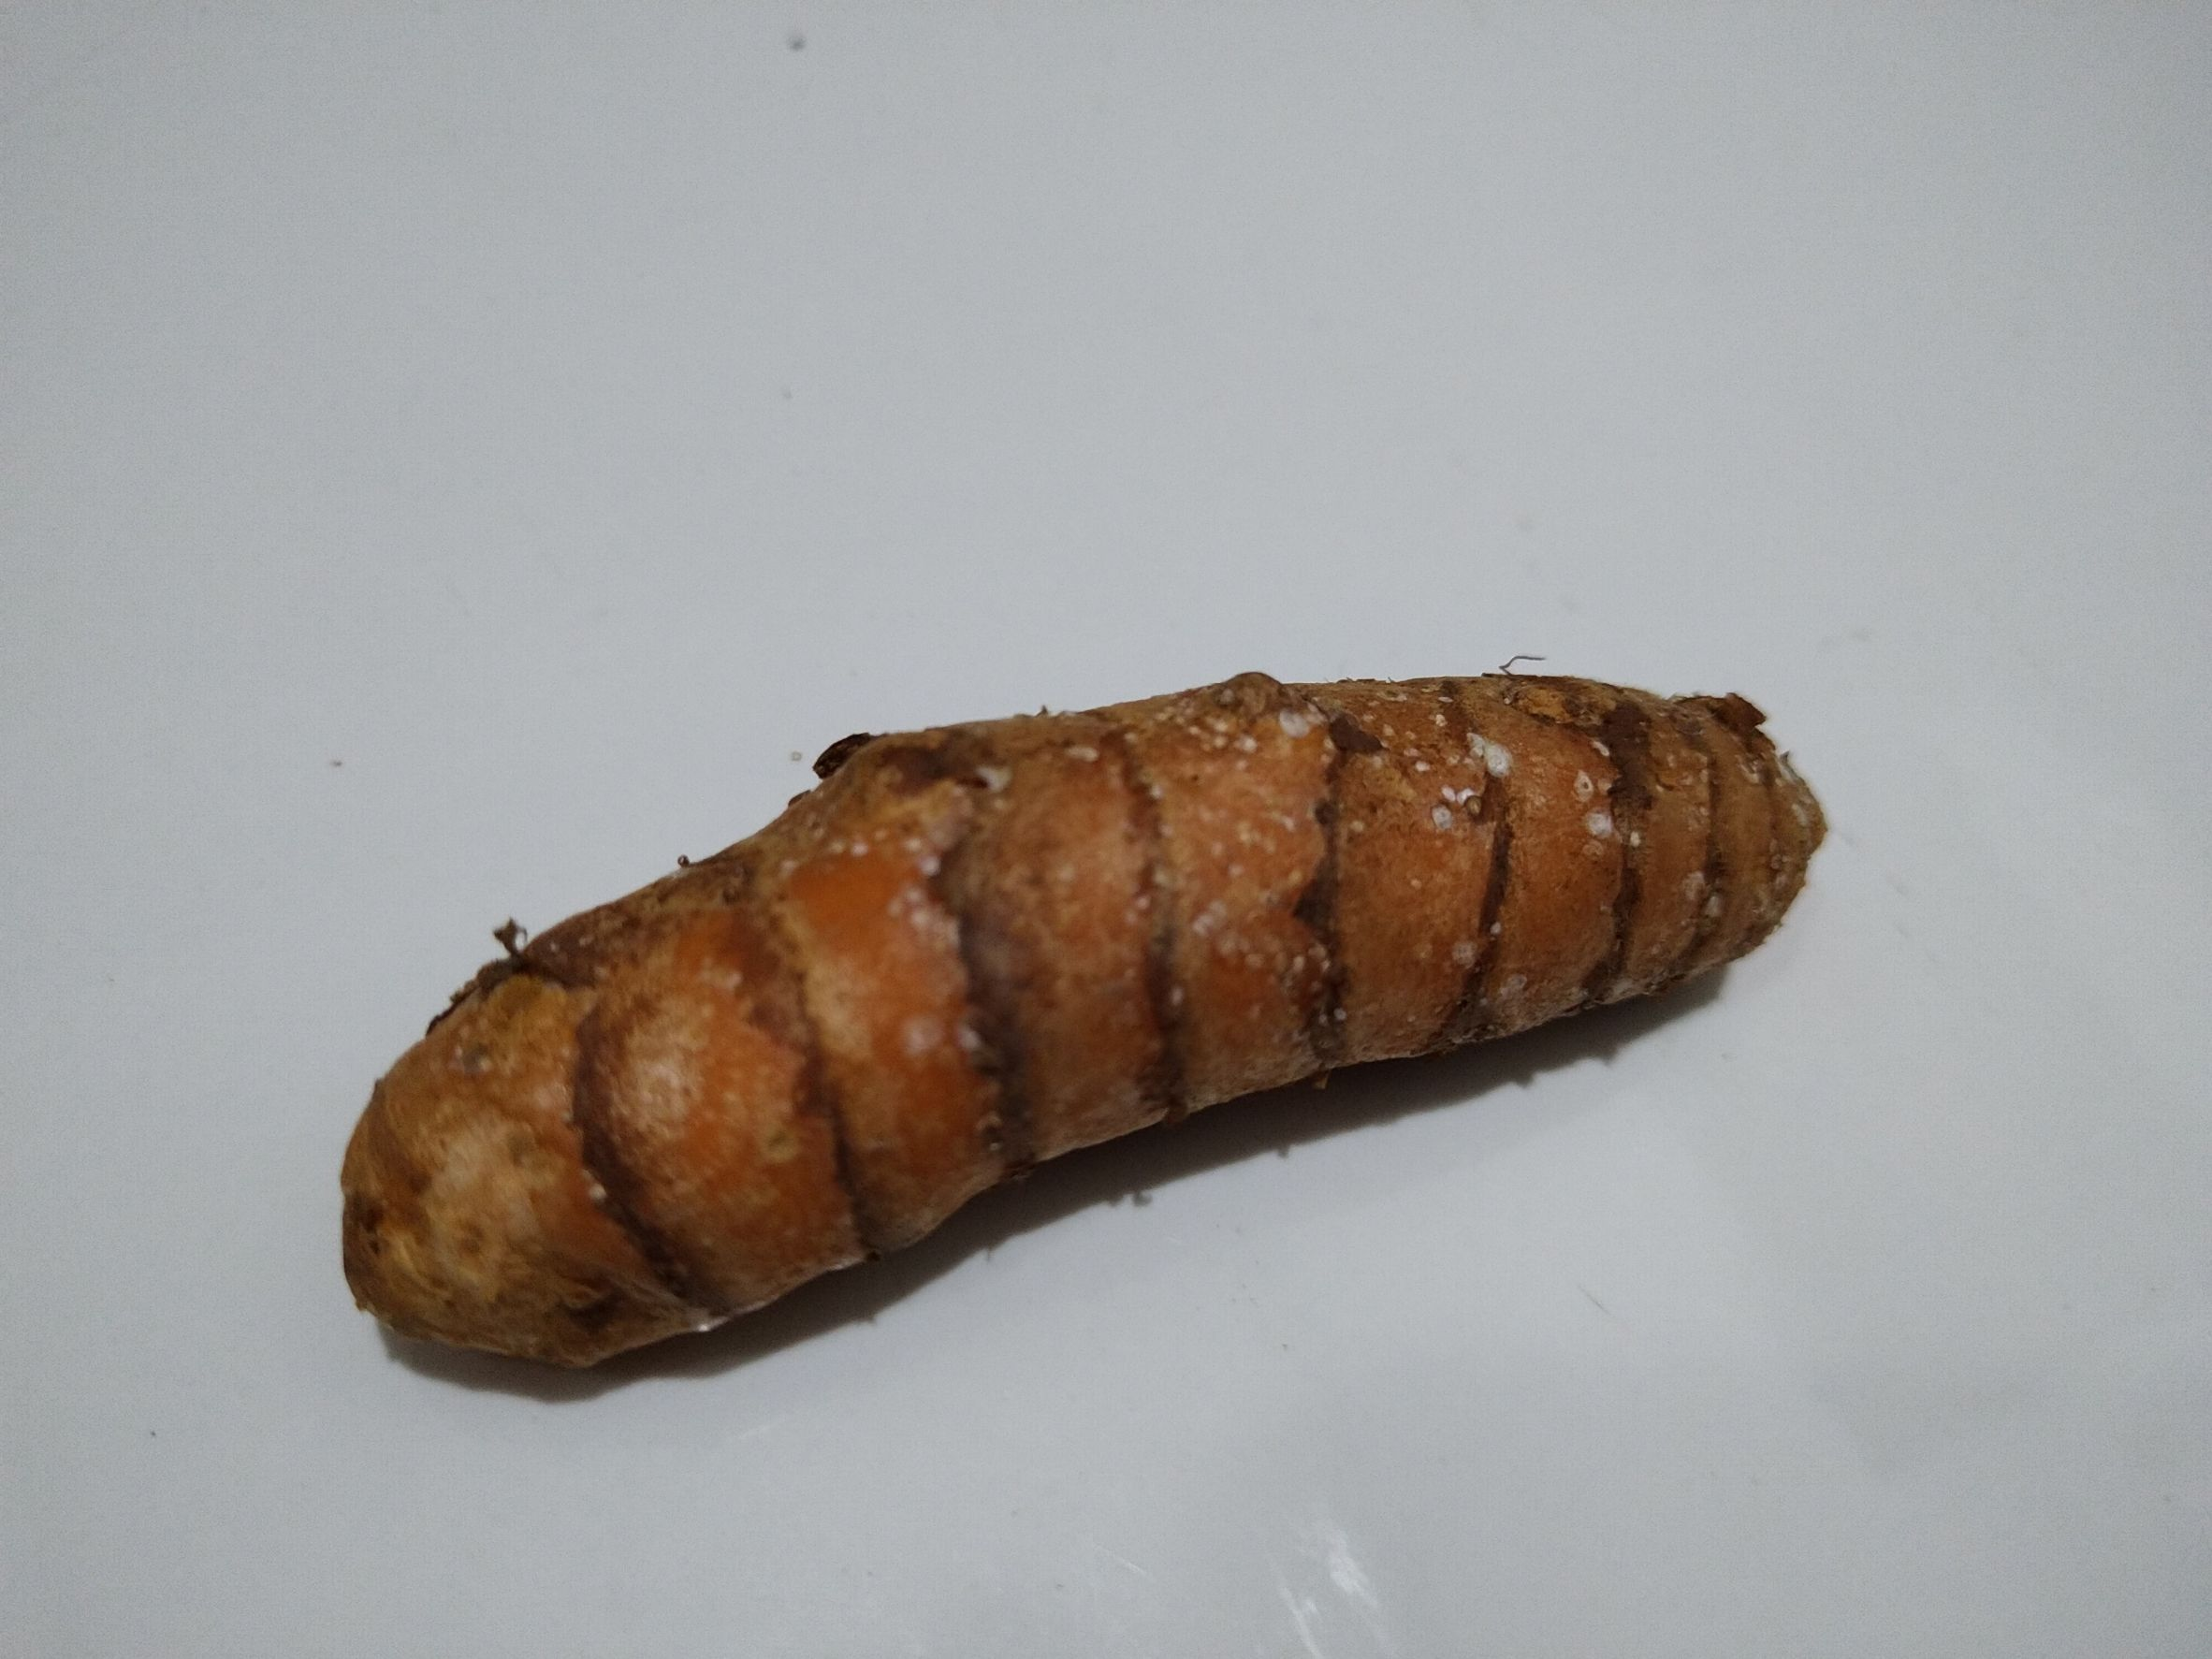Kunyit: (376, 674, 1803, 1385)
